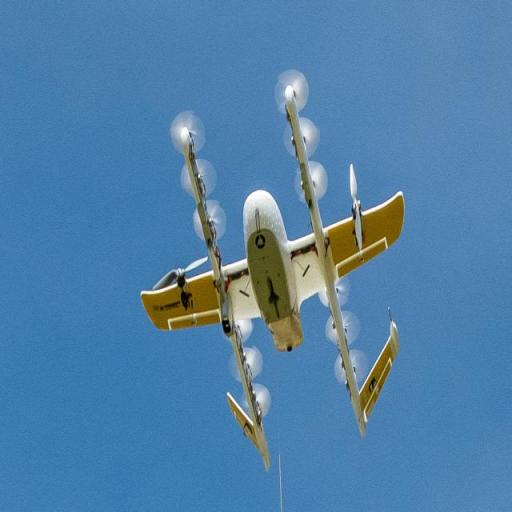uav: (140, 86, 410, 468)
